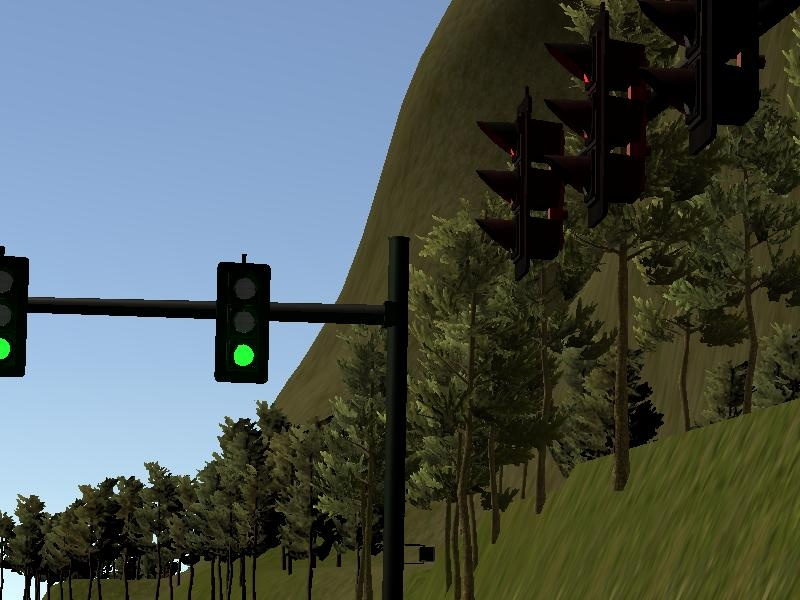GREEN: (217, 263, 269, 385), (1, 257, 30, 377)
